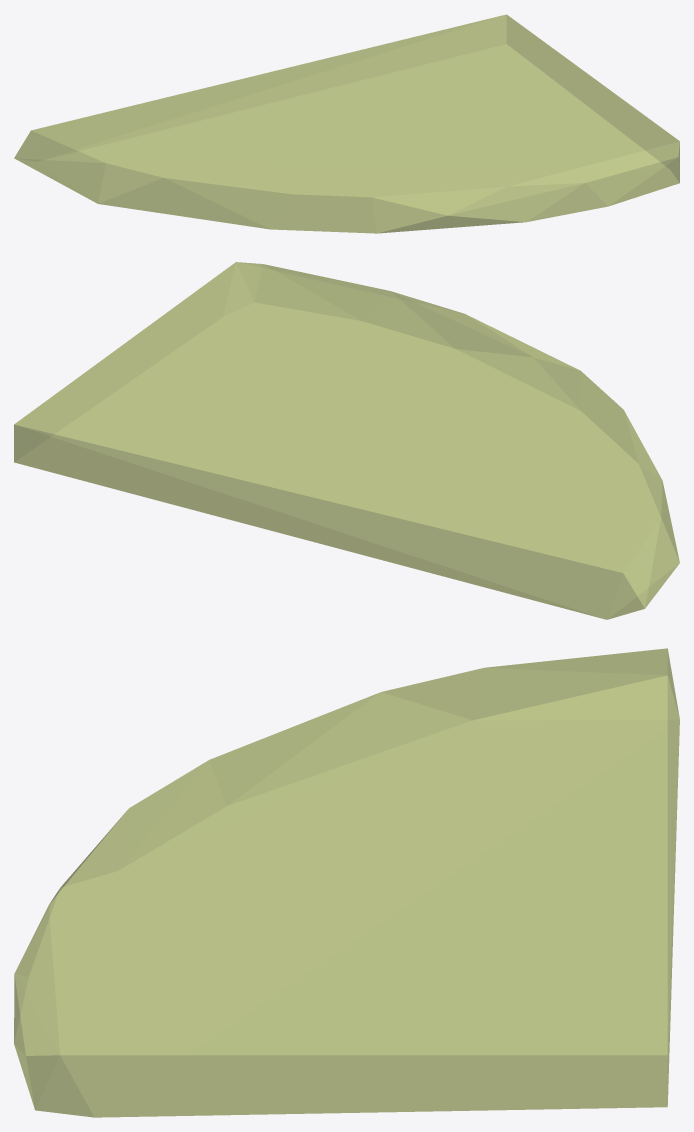
3 views of the same model, one above another, from view 1: azimuth 30°, elevation 25°; view 2: azimuth 150°, elevation 25°; view 3: azimuth 270°, elevation 25° (orthographic). The views are drawn at different scales.
Visible parts, largest first — view 1: Shape_IndexedFaceSet.002_Shape_IndexedFaceSet.18063; view 2: Shape_IndexedFaceSet.002_Shape_IndexedFaceSet.18063; view 3: Shape_IndexedFaceSet.002_Shape_IndexedFaceSet.18063.
Part boxes in pixels (x1,y1,x2,y2): Shape_IndexedFaceSet.002_Shape_IndexedFaceSet.18063: [14, 14, 679, 233]; Shape_IndexedFaceSet.002_Shape_IndexedFaceSet.18063: [14, 262, 679, 619]; Shape_IndexedFaceSet.002_Shape_IndexedFaceSet.18063: [14, 648, 679, 1117].
Bounding box in the file's own units: 0.2569 × 0.018 × 0.1716.
